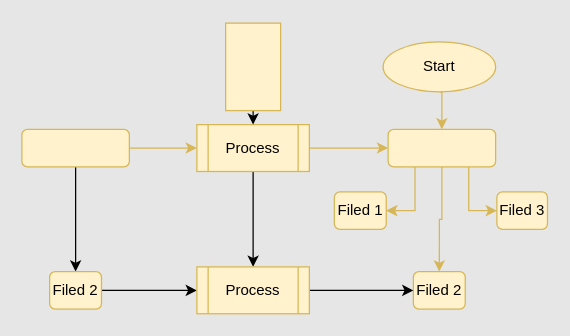
Image size: 570x336. Some labels were removed from this diagram. The shapes that lost their labels are listed below. From the top down, each one's centre as x and y in pixels, then its label:
At [252,66]: "1. 规则 2. 映射 3. 模型 4. 标签 5. 推送".
At [75,147]: "Table O".
At [441,147]: "Table A".
